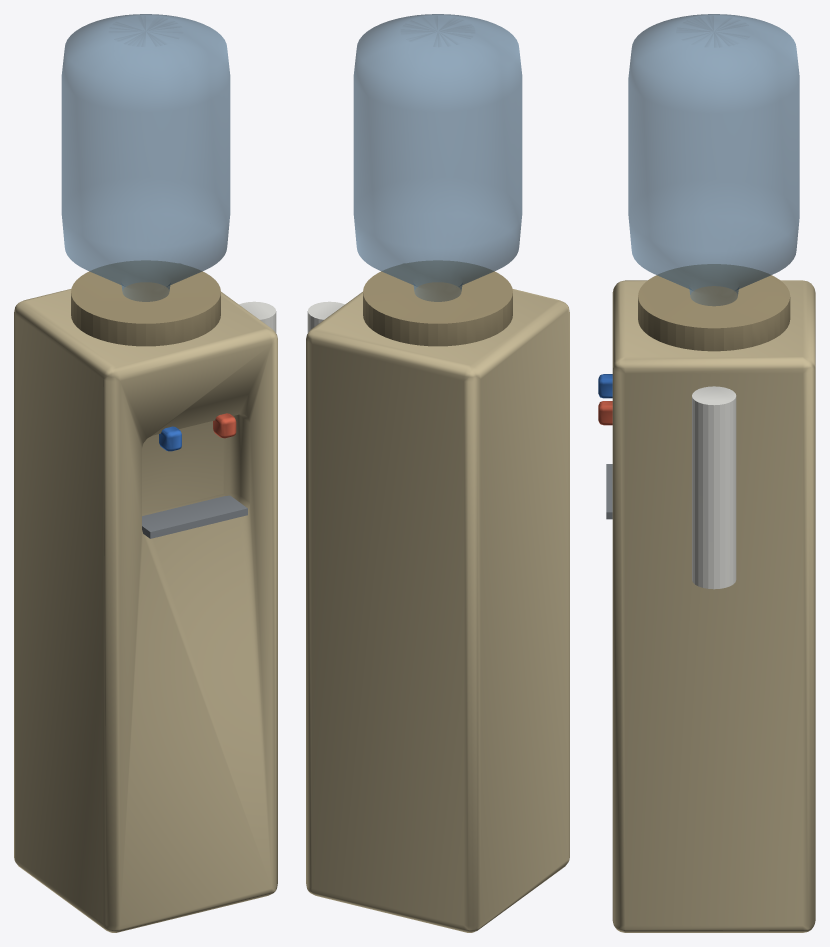
Rendered from cooler.glb.
The picture shows the model from 3 angles, left to right: view 1: azimuth 30°, elevation 25°; view 2: azimuth 150°, elevation 25°; view 3: azimuth 270°, elevation 25°; orthographic projection.
Parts seen in each view (by area): view 1: Distributore, Boccione; view 2: Distributore, Boccione; view 3: Distributore, Boccione.
Part boxes in pixels (box(x1,y1,x2,y2)): Distributore: box(14, 260, 277, 932); Boccione: box(61, 14, 230, 301); Distributore: box(306, 260, 569, 932); Boccione: box(353, 14, 522, 301); Distributore: box(598, 264, 815, 932); Boccione: box(628, 14, 799, 306).
Size of the model in its own units: 0.395 by 1.5 by 0.3425.
